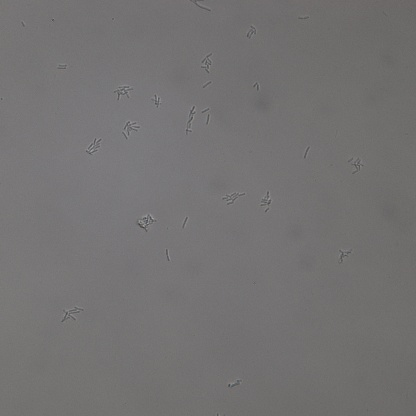R(colony): (62, 305, 85, 322), (114, 82, 134, 99), (86, 137, 103, 156), (222, 190, 245, 204), (122, 120, 138, 140), (261, 191, 274, 214), (185, 106, 196, 133), (347, 156, 364, 173), (200, 54, 213, 73), (338, 247, 352, 263), (152, 95, 162, 108), (245, 25, 255, 38), (227, 380, 241, 388), (251, 83, 259, 91)
